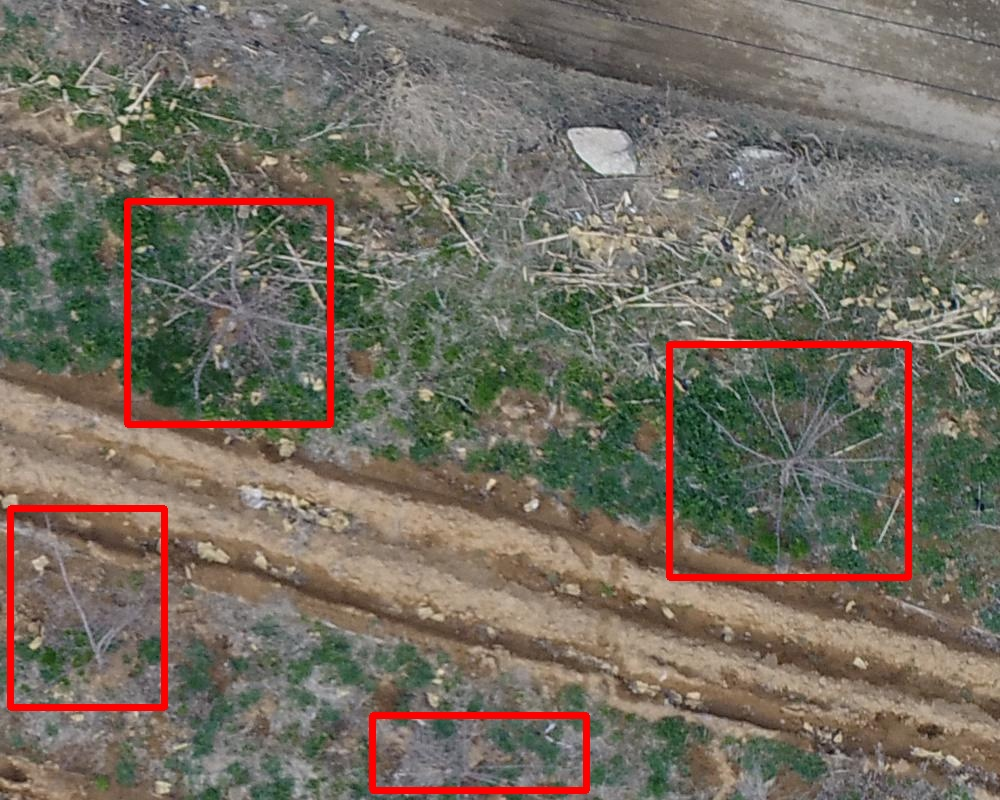apple: (669, 344, 908, 577), (127, 201, 330, 424), (10, 508, 164, 707), (372, 715, 586, 790)
